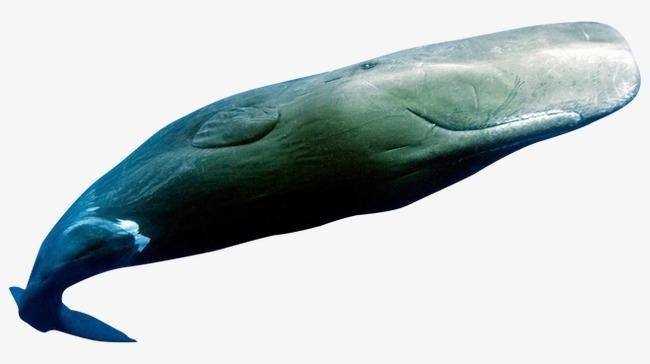fish: (11, 15, 638, 340)
